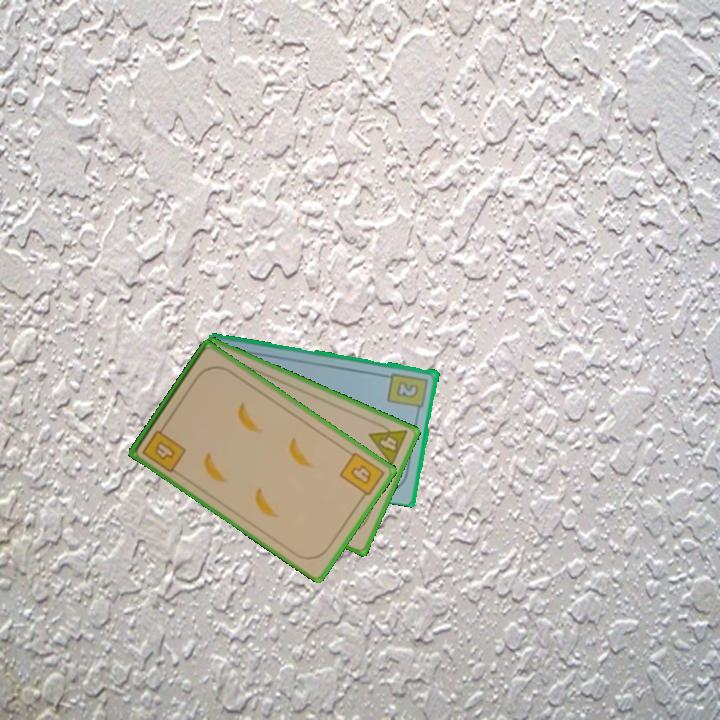2b: (385, 369, 431, 416)
4b: (336, 448, 387, 503), (139, 420, 189, 475)
4p: (365, 417, 411, 469)
